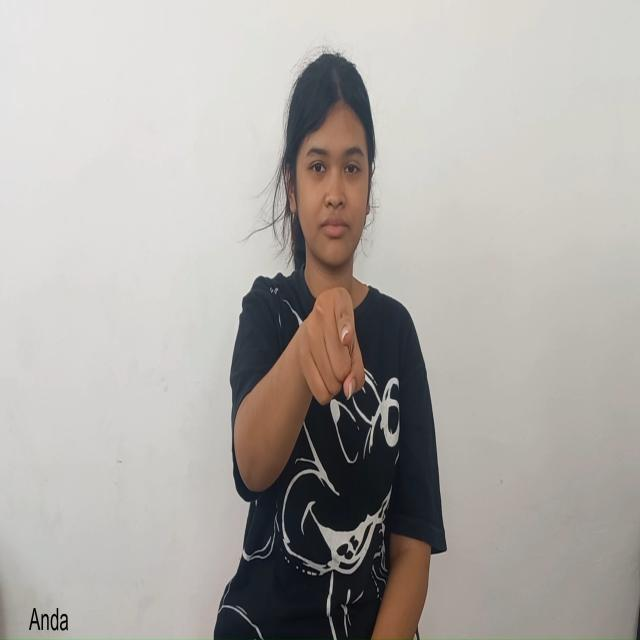Anda -BISINDO-: (261, 277, 390, 455)
